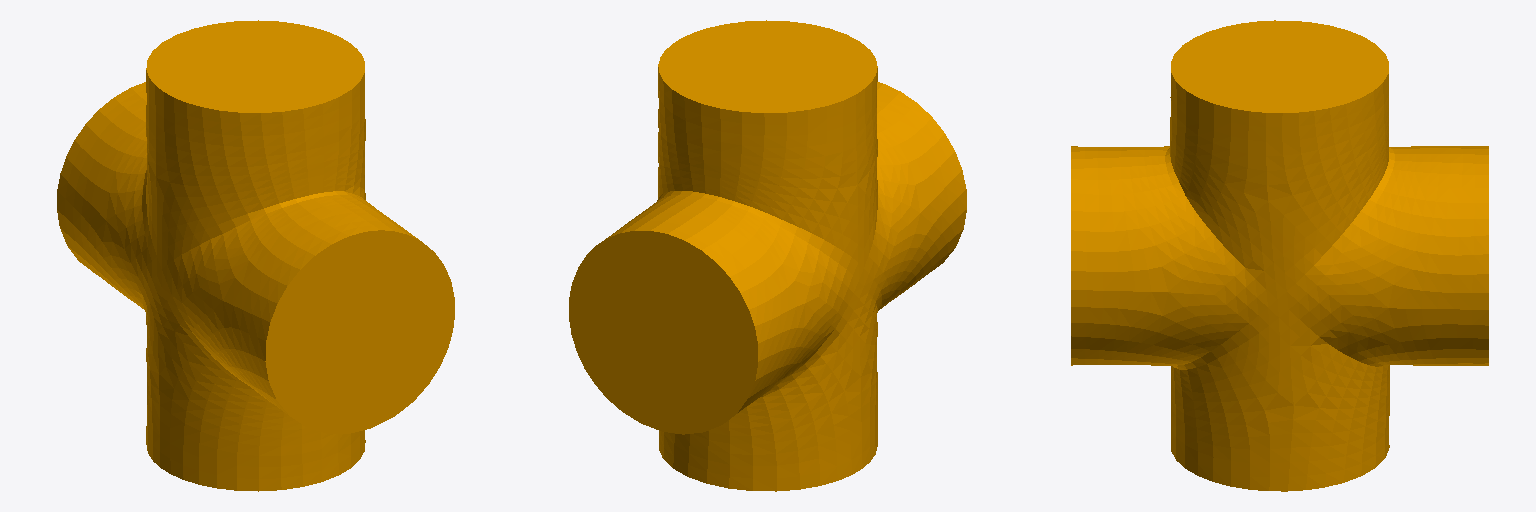
The robot description file, URDF, robot "object":
<robot name="object">
  <link name="object">
    <visual>
      <origin xyz="0 0 0"/>
      <geometry>
        <mesh filename="visual.obj" scale="1 1 1"/>
      </geometry>
    </visual>
    <collision>
      <origin xyz="0 0 0"/>
      <geometry>
        <mesh filename="visual.obj" scale="1 1 1"/>
      </geometry>
    </collision>
    <inertial>
      <mass value="0.05"/>
      <inertia ixx="5.46617171996317e-05" iyy="3.569785288983202e-05" izz="3.569832996023687e-05" ixy="-1.7429127260364602e-09" ixz="-1.442496130160139e-09" iyz="-1.517976649530636e-09"/>
    </inertial>
  </link>
</robot>

--- Render facts (derived) ---
3 views of the same robot in one strip: view 1: azimuth 30°, elevation 25°; view 2: azimuth 150°, elevation 25°; view 3: azimuth 270°, elevation 25° (orthographic).
Model object with 1 links and 0 joints (none), rooted at object, posed every joint at zero.
Visible links, largest first — view 1: object; view 2: object; view 3: object.
Link boxes in pixels (left/top/right/bottom): object: left=57, top=20, right=454, bottom=491; object: left=569, top=20, right=966, bottom=491; object: left=1071, top=20, right=1488, bottom=491.
Size in the robot's own frame: 0.0505 by 0.096 by 0.096 metres.
Meshes: 1 distinct files referenced, 1 mesh visuals loaded (1 OBJ).
